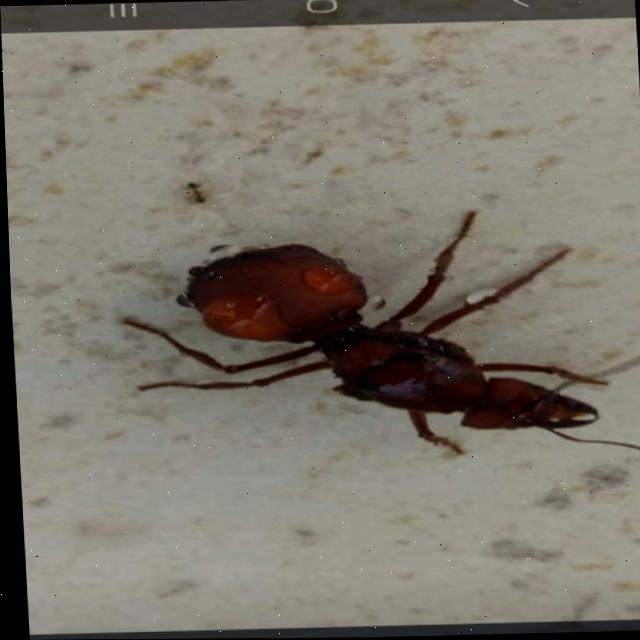Alive-Female-Dealate: (111, 207, 640, 469)
